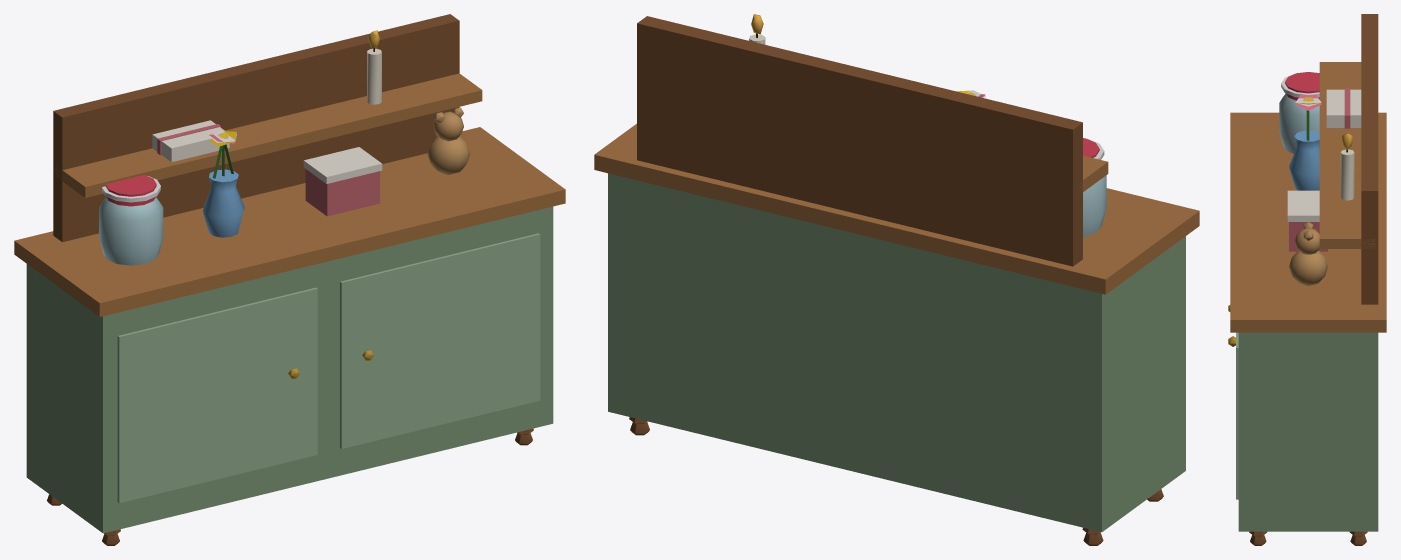
Rendered from keepsake_shelf.glb.
3 views of the same model, side by side, from view 1: azimuth 30°, elevation 25°; view 2: azimuth 150°, elevation 25°; view 3: azimuth 270°, elevation 25° (orthographic). The views are drawn at different scales.
Parts seen in each view (by area): view 1: furniture-keepsake_shelf; view 2: furniture-keepsake_shelf; view 3: furniture-keepsake_shelf.
Part boxes in pixels (bbox=[...]): furniture-keepsake_shelf: bbox=[14, 14, 565, 545]; furniture-keepsake_shelf: bbox=[594, 14, 1199, 545]; furniture-keepsake_shelf: bbox=[1228, 14, 1386, 545].
Size of the model in its own units: 1.76 by 1.45 by 0.567.
